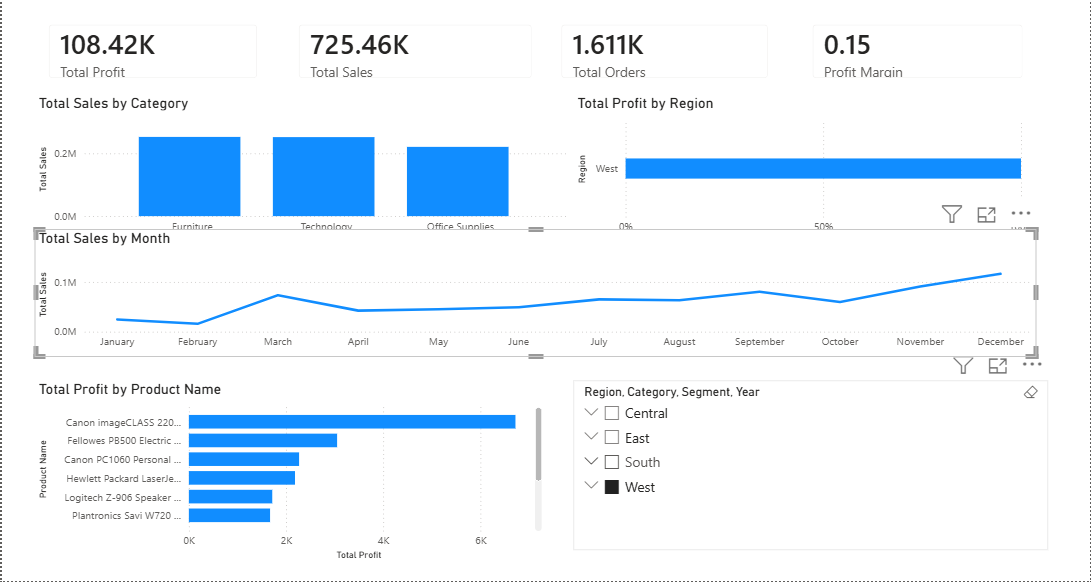

The dashboard page shown, as its layout file describes it:
{"tool":"powerbi","page":{"name":"Page 1","canvas":[1280,720],"ordinal":0},"visuals":[{"type":"cardVisual","fields":{"Data":["cleaned_superstore.Total Profit"]},"box":[38.8,49,279.6,98],"z":0},{"type":"cardVisual","fields":{"Data":["cleaned_superstore.Total Sales"]},"box":[332.7,49,308.2,98],"z":1000},{"type":"cardVisual","fields":{"Data":["cleaned_superstore.Total Orders"]},"box":[640.8,49,277.6,98],"z":2000},{"type":"cardVisual","fields":{"Data":["cleaned_superstore.Profit Margin"]},"box":[936.7,49,281.6,98],"z":3000},{"type":"clusteredColumnChart","fields":{"Category":["cleaned_superstore.Category"],"Y":["cleaned_superstore.Total Sales"]},"box":[38.8,146.9,632.7,183.7],"z":4000},{"type":"hundredPercentStackedBarChart","fields":{"Category":["cleaned_superstore.Region"],"Y":["cleaned_superstore.Total Profit"]},"box":[671.4,146.9,546.9,183.7],"z":5000},{"type":"lineChart","fields":{"Category":["cleaned_superstore.Order Date.Variation.Date Hierarchy.Month"],"Y":["cleaned_superstore.Total Sales"]},"box":[38.8,306.1,1179.6,151],"z":6000},{"type":"barChart","fields":{"Category":["cleaned_superstore.Product Name"],"Y":["cleaned_superstore.Total Profit"]},"box":[38.8,483.7,602,216.3],"z":7000},{"type":"slicer","fields":{"Values":["cleaned_superstore.Region","cleaned_superstore.Category","cleaned_superstore.Segment","cleaned_superstore.Year"]},"box":[671.4,483.7,559.2,200],"z":8000}]}

Visuals, with their boxes on the page's 1280x720 design canvas (x1, y1, x2, y2). These are canvas units, not pixel positions in the 1091x582 screenshot, which may show the page scaled, cropped or inside an application window:
cardVisual - cleaned_superstore.Total Profit: 39:49:318:147
cardVisual - cleaned_superstore.Total Sales: 333:49:641:147
cardVisual - cleaned_superstore.Total Orders: 641:49:918:147
cardVisual - cleaned_superstore.Profit Margin: 937:49:1218:147
clusteredColumnChart - cleaned_superstore.Category x cleaned_superstore.Total Sales: 39:147:672:331
hundredPercentStackedBarChart - cleaned_superstore.Region x cleaned_superstore.Total Profit: 671:147:1218:331
lineChart - cleaned_superstore.Order Date.Variation.Date Hierarchy.Month x cleaned_superstore.Total Sales: 39:306:1218:457
barChart - cleaned_superstore.Product Name x cleaned_superstore.Total Profit: 39:484:641:700
slicer - cleaned_superstore.Region x cleaned_superstore.Category: 671:484:1231:684
